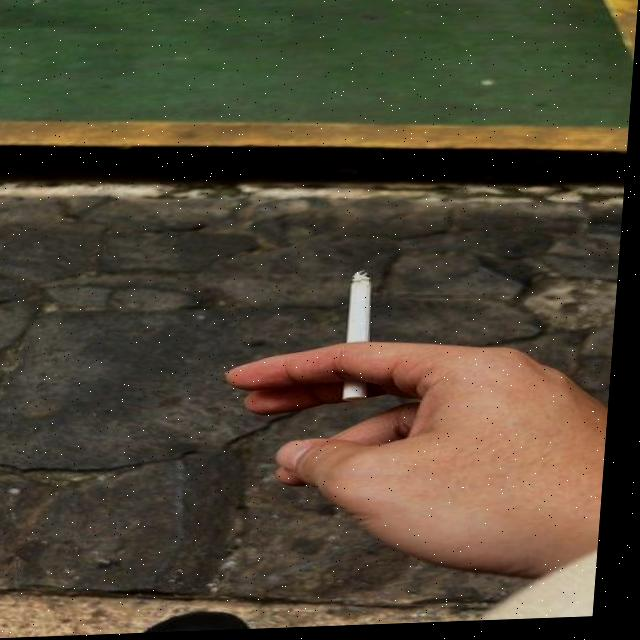cigarette: (348, 273, 381, 404)
